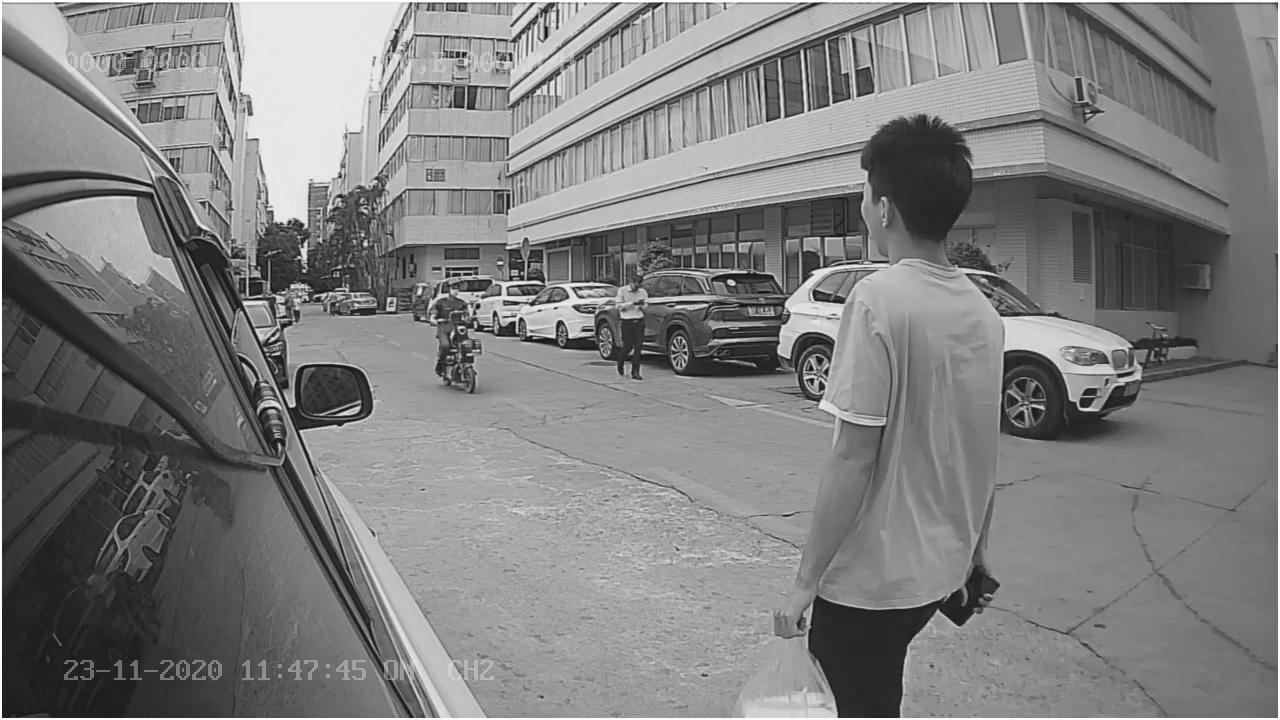person: (806, 104, 1014, 537)
